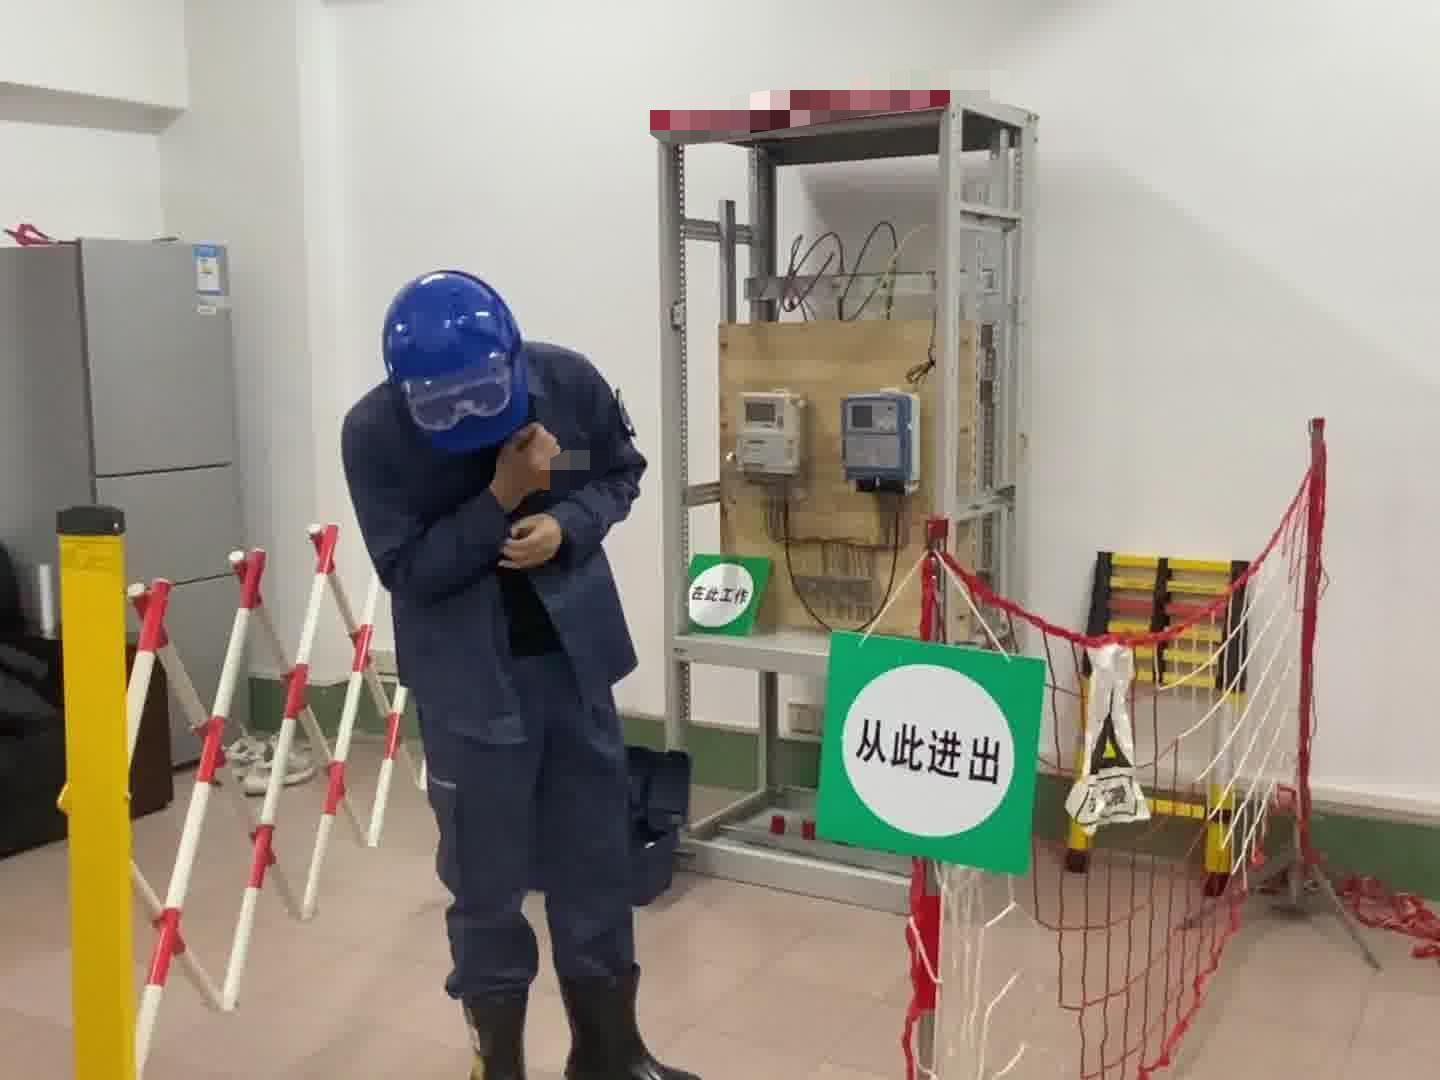halt: (381, 265, 534, 461)
